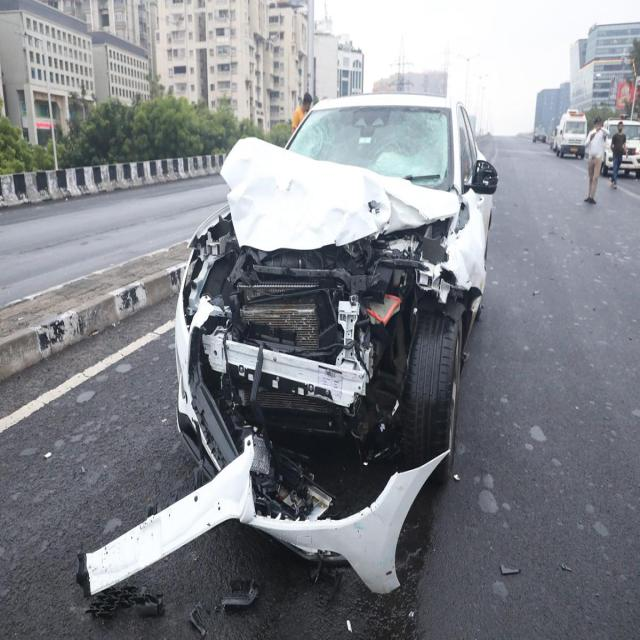accident: (78, 96, 498, 594)
emergency: (556, 109, 588, 157)
